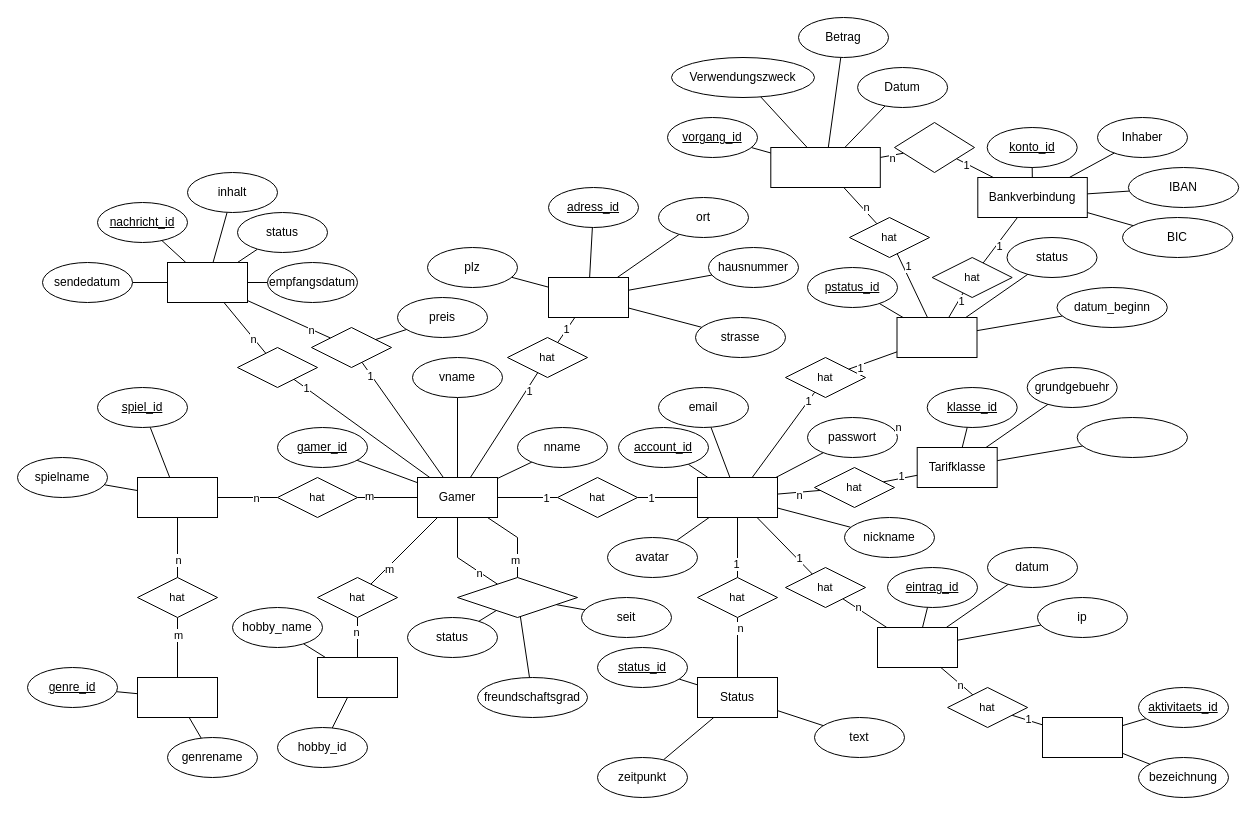
The diagram is 1257 pixels wide and 815 high, and some of its shapes have lost their labels. Here are the shapes that lost their labels. From the top down, the centre of each, then its label:
At (825,167): "Bezahlvorgang".
At (934,147): "beglichen mit".
At (207,282): "Nachricht".
At (588,297): "Adresse".
At (351,347): "sendet".
At (936,337): "Premiumstatus".
At (277,367): "empfängt".
At (1132,437): "gebuehr_pro_msg".
At (177,497): "Spiel".
At (737,497): "Account".
At (517,597): "befreundet mit".
At (917,647): "Log".
At (177,697): "Genre".
At (357,677): "Hobby".
At (1082,737): "Aktivität".
